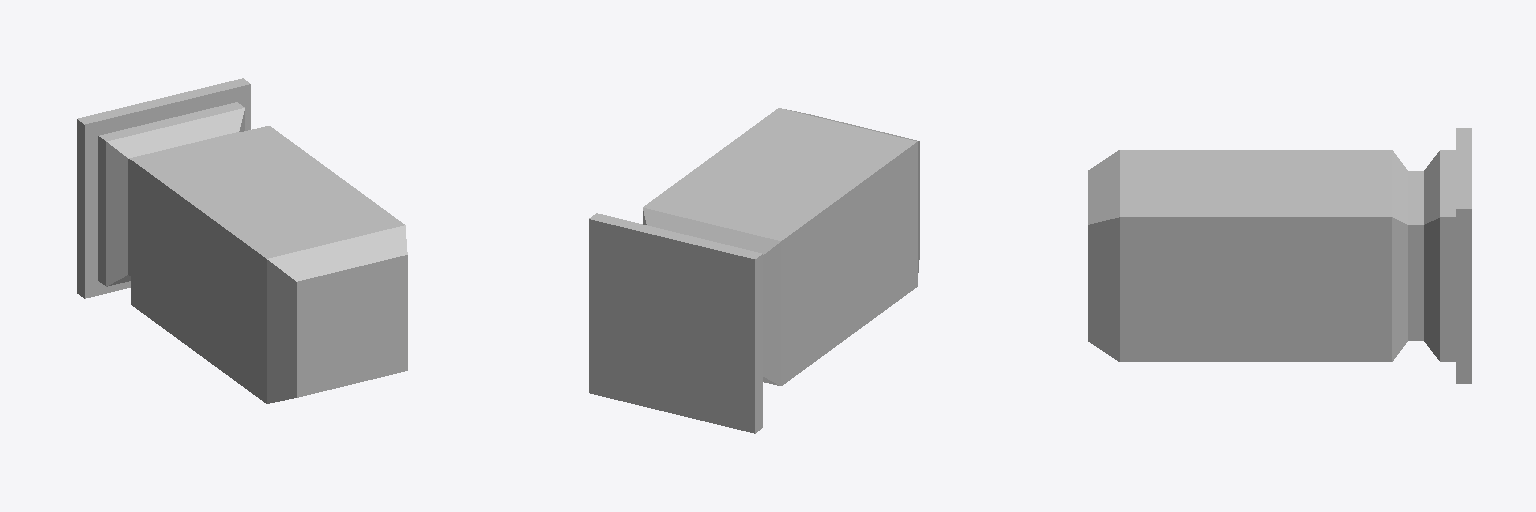
The model's file is ar_casing.obj.
3 renders of one model, left to right at view 1: azimuth 30°, elevation 25°; view 2: azimuth 150°, elevation 25°; view 3: azimuth 270°, elevation 25°, orthographic.
Visible parts, largest first — view 1: Cube; view 2: Cube; view 3: Cube.
Boxes of the visible parts, x1=… form: Cube: x1=77, y1=78, x2=407, y2=403; Cube: x1=589, y1=108, x2=919, y2=433; Cube: x1=1088, y1=128, x2=1471, y2=383.
Bounding box in the file's own units: 0.12 × 0.12 × 0.24.